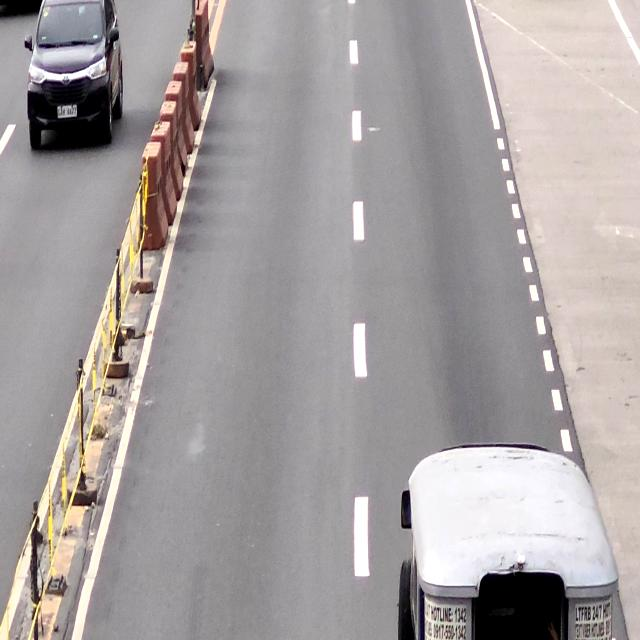Jeep: (394, 442, 620, 640)
